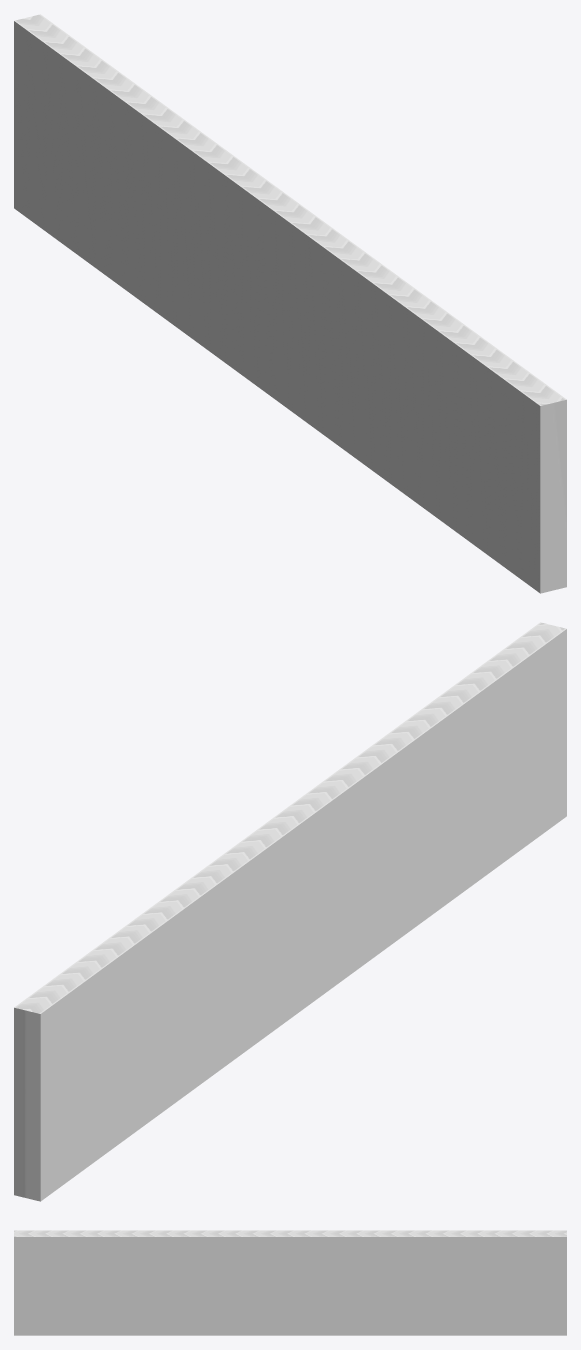
The model's file is GroundWith_Parts.fbx.
3 renders of one model, top to bottom at view 1: azimuth 30°, elevation 25°; view 2: azimuth 150°, elevation 25°; view 3: azimuth 270°, elevation 25°, orthographic. The views are drawn at different scales.
Parts seen in each view (by area): view 1: GroundPart1, GroundPart17, GroundPart28, GroundPart8, GroundPart4, GroundPart9, GroundPart14, GroundPart32.001, GroundPart6, GroundPart11, GroundPart12, GroundPart19 (+20 smaller); view 2: GroundPart32.001, GroundPart16, GroundPart5, GroundPart25, GroundPart19, GroundPart24, GroundPart29, GroundPart3, GroundPart14, GroundPart21, GroundPart22, GroundPart27 (+20 smaller); view 3: GroundPart32.001, GroundPart1, GroundPart2, GroundPart3, GroundPart5, GroundPart6, GroundPart7, GroundPart8, GroundPart9, GroundPart10, GroundPart11, GroundPart12 (+20 smaller).
Boxes of the visible parts, bbox=[...] form: GroundPart1: bbox=[524, 387, 566, 593]; GroundPart17: bbox=[260, 195, 303, 400]; GroundPart28: bbox=[79, 62, 122, 267]; GroundPart8: bbox=[408, 303, 451, 508]; GroundPart4: bbox=[474, 351, 517, 556]; GroundPart9: bbox=[392, 291, 434, 496]; GroundPart14: bbox=[310, 231, 352, 436]; GroundPart32.001: bbox=[14, 14, 56, 219]; GroundPart6: bbox=[441, 327, 484, 532]; GroundPart11: bbox=[359, 267, 401, 472]; GroundPart12: bbox=[343, 255, 385, 460]; GroundPart19: bbox=[228, 171, 270, 376]; GroundPart32.001: bbox=[14, 995, 56, 1201]; GroundPart16: bbox=[277, 803, 320, 1008]; GroundPart5: bbox=[458, 670, 501, 875]; GroundPart25: bbox=[129, 911, 172, 1116]; GroundPart19: bbox=[228, 839, 270, 1044]; GroundPart24: bbox=[146, 899, 188, 1104]; GroundPart29: bbox=[63, 959, 106, 1164]; GroundPart3: bbox=[491, 646, 533, 851]; GroundPart14: bbox=[310, 779, 352, 984]; GroundPart21: bbox=[195, 863, 237, 1068]; GroundPart22: bbox=[179, 875, 221, 1080]; GroundPart27: bbox=[96, 935, 139, 1140]; GroundPart32.001: bbox=[549, 1230, 566, 1335]; GroundPart1: bbox=[14, 1230, 31, 1335]; GroundPart2: bbox=[31, 1230, 48, 1335]; GroundPart3: bbox=[48, 1230, 65, 1335]; GroundPart5: bbox=[83, 1230, 100, 1335]; GroundPart6: bbox=[100, 1230, 117, 1335]; GroundPart7: bbox=[117, 1230, 134, 1335]; GroundPart8: bbox=[135, 1230, 152, 1335]; GroundPart9: bbox=[152, 1230, 169, 1335]; GroundPart10: bbox=[169, 1230, 186, 1335]; GroundPart11: bbox=[186, 1230, 203, 1335]; GroundPart12: bbox=[204, 1230, 221, 1335].
Bounding box in the file's own units: 7 × 47.17 × 240.
